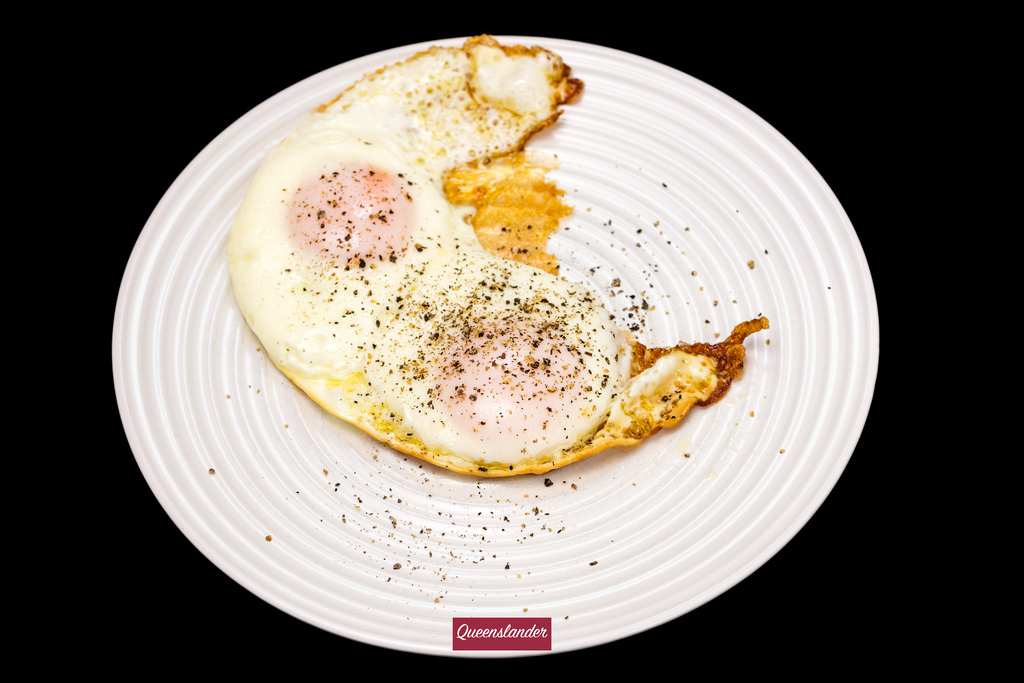fried egg: (242, 123, 673, 489)
